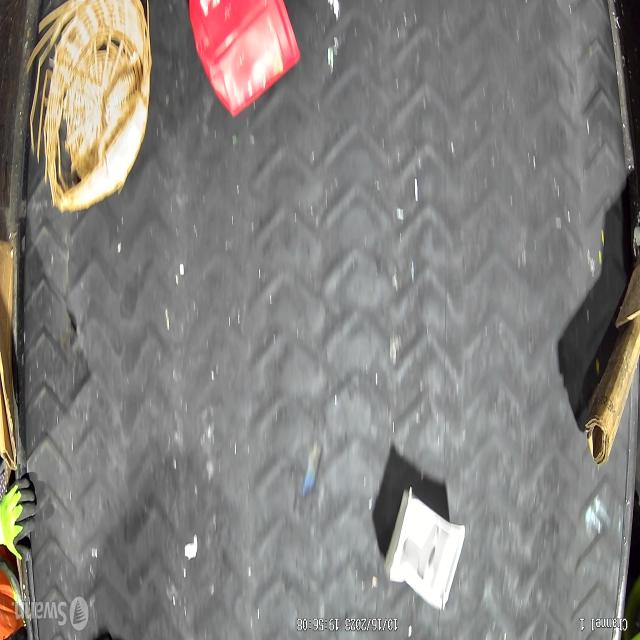non_white_jug: (184, 1, 306, 122)
